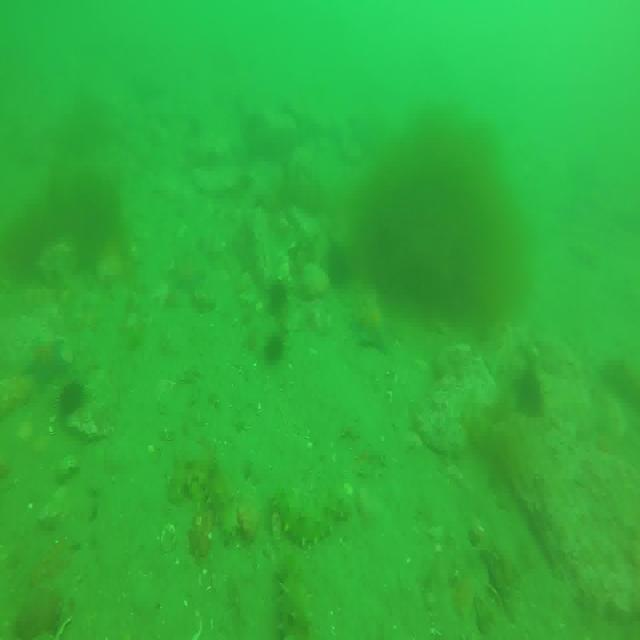echinus: (518, 363, 544, 415), (326, 242, 352, 292), (61, 378, 84, 417), (264, 329, 287, 364), (268, 276, 289, 312)
holothurian: (175, 442, 237, 540), (272, 488, 343, 548), (278, 556, 313, 636)
starfish: (349, 287, 392, 351), (25, 338, 68, 390)
